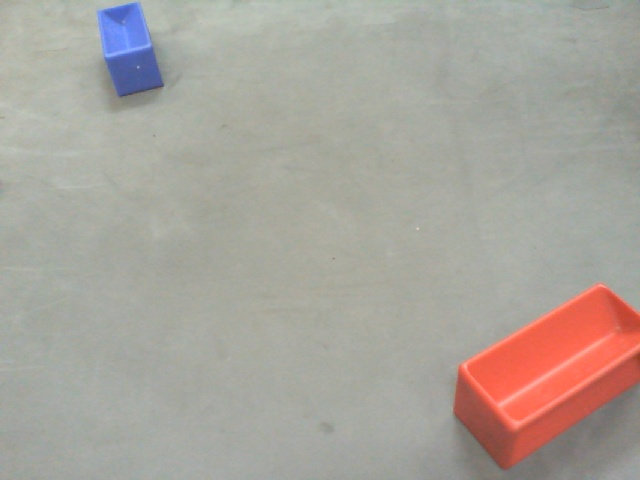BlueSample: (92, 5, 164, 103)
RedSample: (450, 280, 640, 473)
